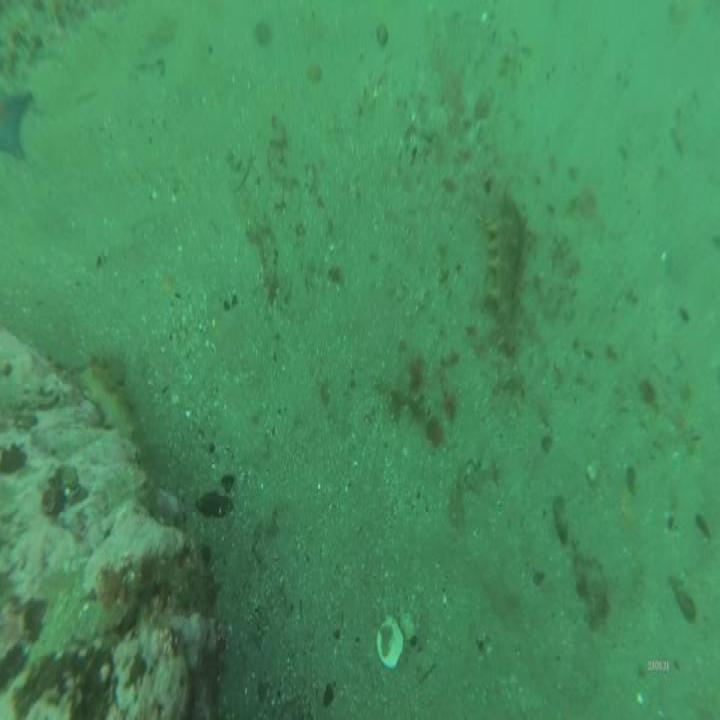holothurian: (79, 346, 142, 466), (485, 186, 526, 340)
scallop: (376, 613, 406, 672)
